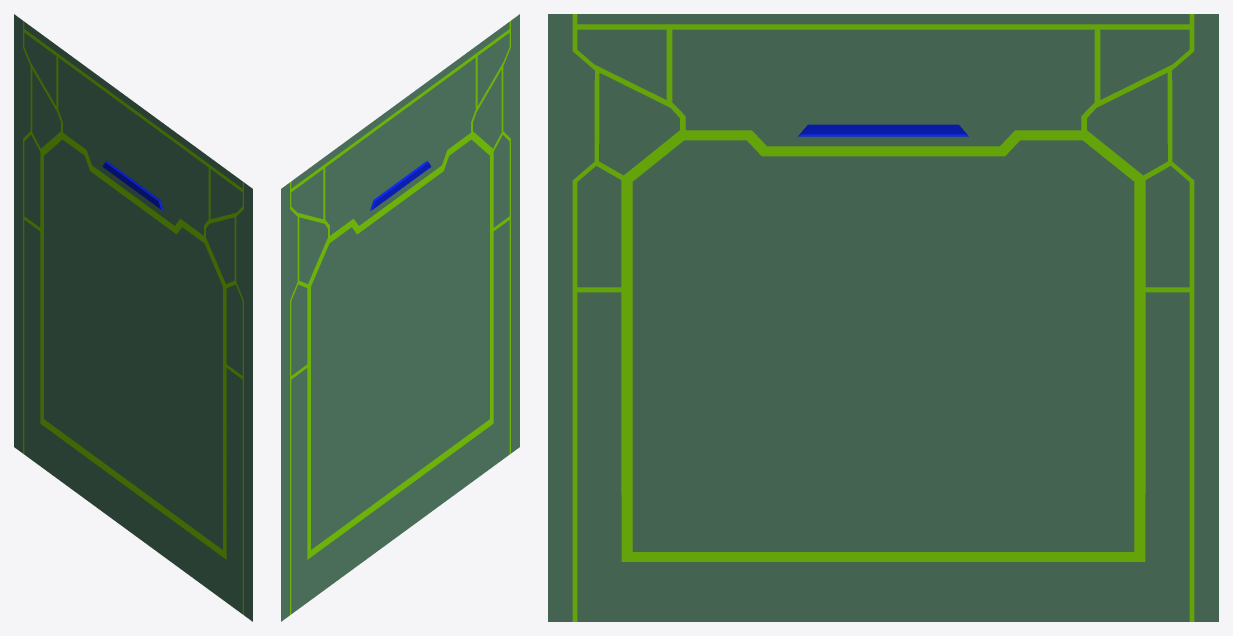
Rendered from Building_Wall_02c_snaps016.fbx.
3 views of the same model, side by side, from view 1: azimuth 30°, elevation 25°; view 2: azimuth 150°, elevation 25°; view 3: azimuth 270°, elevation 25° (orthographic). The views are drawn at different scales.
Visible parts, largest first — view 1: Building_Wall_02c_snaps016_LOD0; view 2: Building_Wall_02c_snaps016_LOD0; view 3: Building_Wall_02c_snaps016_LOD0.
Boxes of the visible parts, box(x1,y1,x2,y2) form: Building_Wall_02c_snaps016_LOD0: box(14, 14, 252, 621); Building_Wall_02c_snaps016_LOD0: box(281, 14, 519, 621); Building_Wall_02c_snaps016_LOD0: box(548, 14, 1218, 621).
Size of what is drawn, in the model's own units: 0.0234 by 6 by 6.
